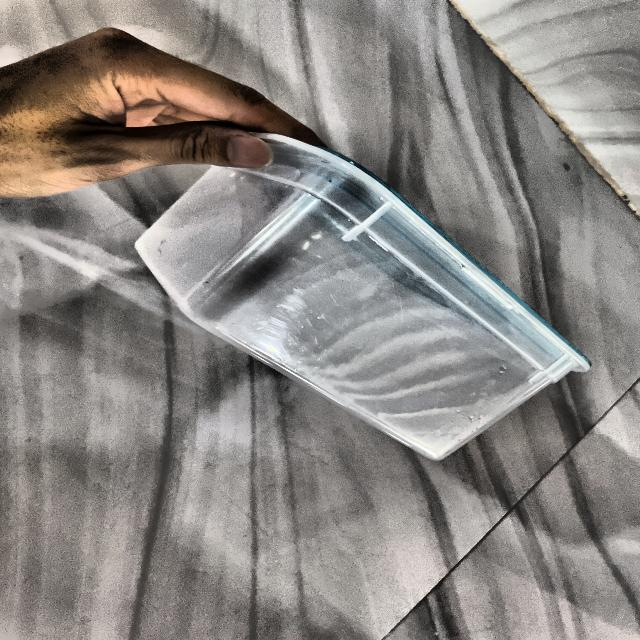plastic container: (119, 97, 574, 452)
